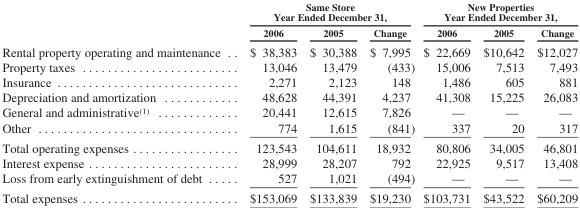table: (1, 0, 577, 204)
table column: (1, 0, 234, 204), (234, 0, 302, 204), (302, 0, 362, 204), (418, 0, 476, 204), (362, 0, 418, 204), (476, 0, 529, 204), (529, 0, 577, 204)
table column header: (1, 0, 577, 41)
table row: (1, 0, 577, 24), (1, 41, 577, 59), (1, 119, 577, 137), (1, 137, 577, 155), (1, 24, 577, 41), (1, 170, 577, 187), (1, 187, 577, 204), (1, 59, 577, 74), (1, 74, 577, 89), (1, 89, 577, 104), (1, 104, 577, 119), (1, 155, 577, 170)
table spanning cell: (234, 0, 418, 24), (418, 0, 577, 24)
